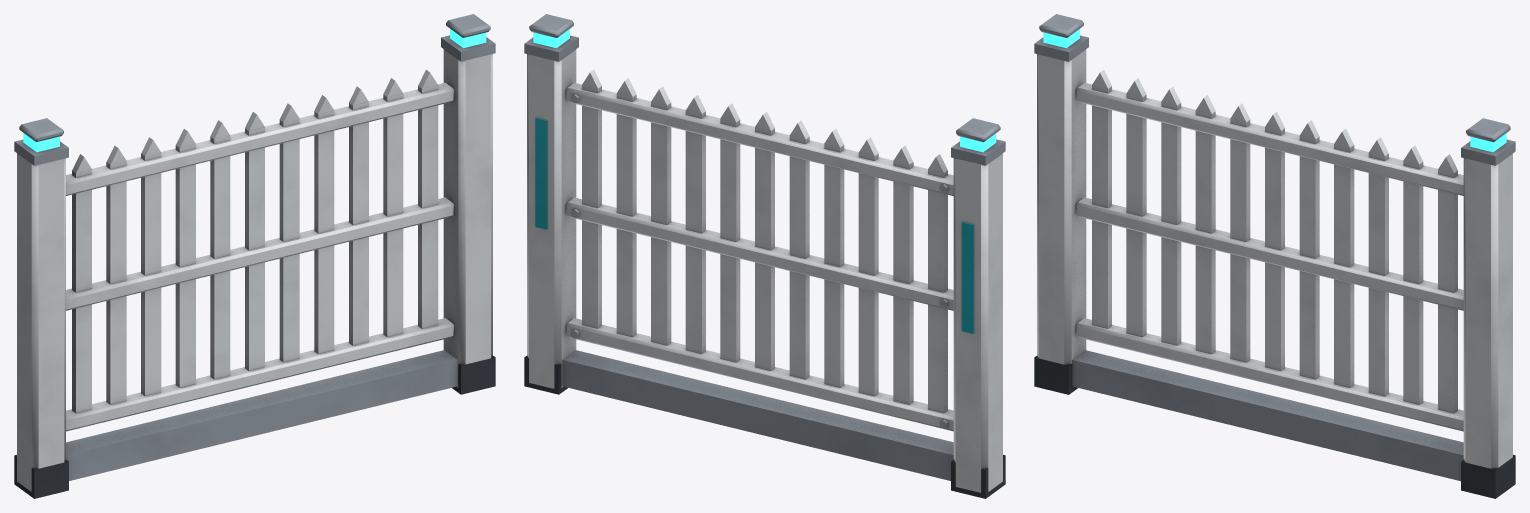
The model's file is valla_residencial.fbx.
The picture shows the model from 3 angles, left to right: view 1: azimuth 30°, elevation 25°; view 2: azimuth 150°, elevation 25°; view 3: azimuth 330°, elevation 25°; orthographic projection.
Visible parts, largest first — view 1: valla_residencial, valla_residencial_neon; view 2: valla_residencial, valla_residencial_neon; view 3: valla_residencial, valla_residencial_neon.
Part boxes in pixels (x1,y1,x2,y2): valla_residencial: (14, 14, 495, 498); valla_residencial_neon: (23, 29, 486, 152); valla_residencial: (524, 14, 1005, 498); valla_residencial_neon: (533, 29, 996, 152); valla_residencial: (1034, 14, 1515, 498); valla_residencial_neon: (1043, 29, 1506, 152).
Bounding box in the file's own units: 4 × 2.99 × 0.3135.
2 materials, 2 textured.
